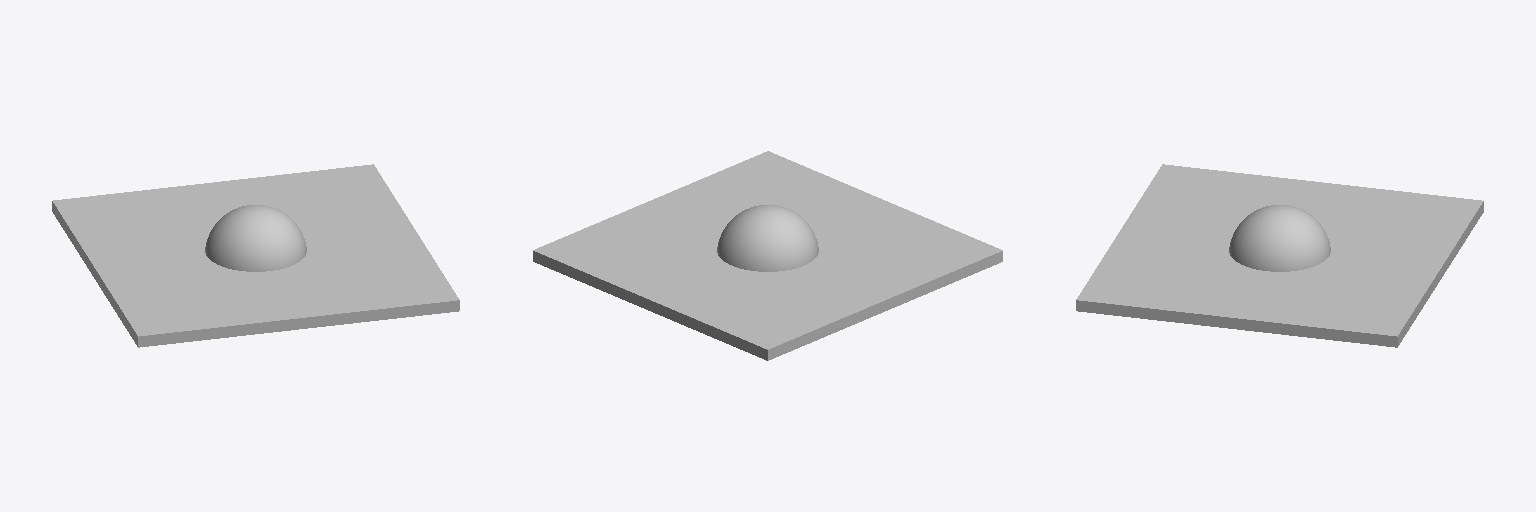
The model's file is black_hole.obj.
3 views of the same model, side by side, from view 1: azimuth 30°, elevation 25°; view 2: azimuth 150°, elevation 25°; view 3: azimuth 270°, elevation 25° (orthographic).
Visible parts, largest first — view 1: 立方体, 棱角球; view 2: 立方体, 棱角球; view 3: 立方体, 棱角球.
Part boxes in pixels (left/top/right/bottom): 立方体: left=52, top=164, right=459, bottom=347; 棱角球: left=205, top=205, right=306, bottom=271; 立方体: left=533, top=151, right=1002, bottom=360; 棱角球: left=717, top=205, right=818, bottom=271; 立方体: left=1076, top=164, right=1483, bottom=347; 棱角球: left=1229, top=205, right=1330, bottom=271.
Size of the model in its own units: 7.94 by 2 by 7.94.